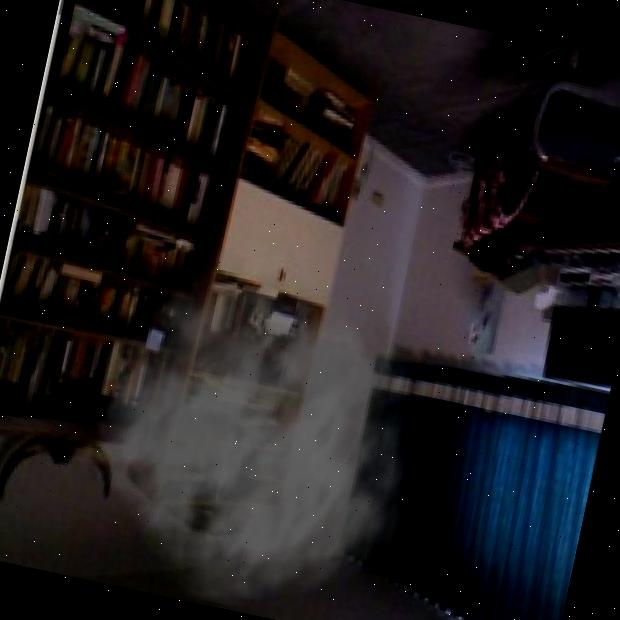smoke: (33, 203, 463, 620)
